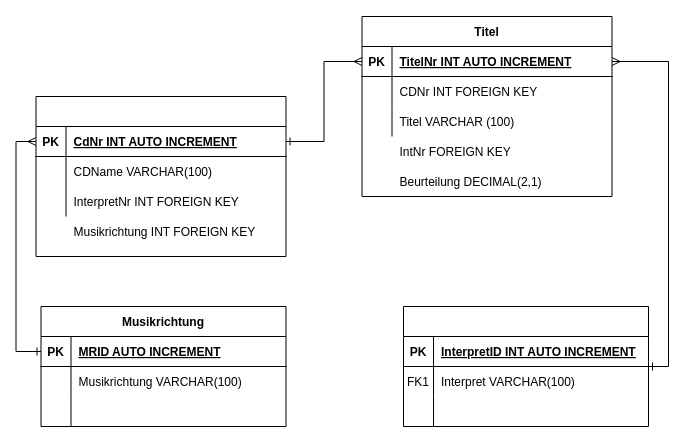
Some shapes in this 685 by 443 pixel diagram are drawn without their labels. The shapes that lost their labels are listed below. From the top down, each one's box as (x1, y1, x2, y2) in pixels, then its label:
(35, 96, 286, 256): CD
(402, 306, 648, 426): Interpreten
